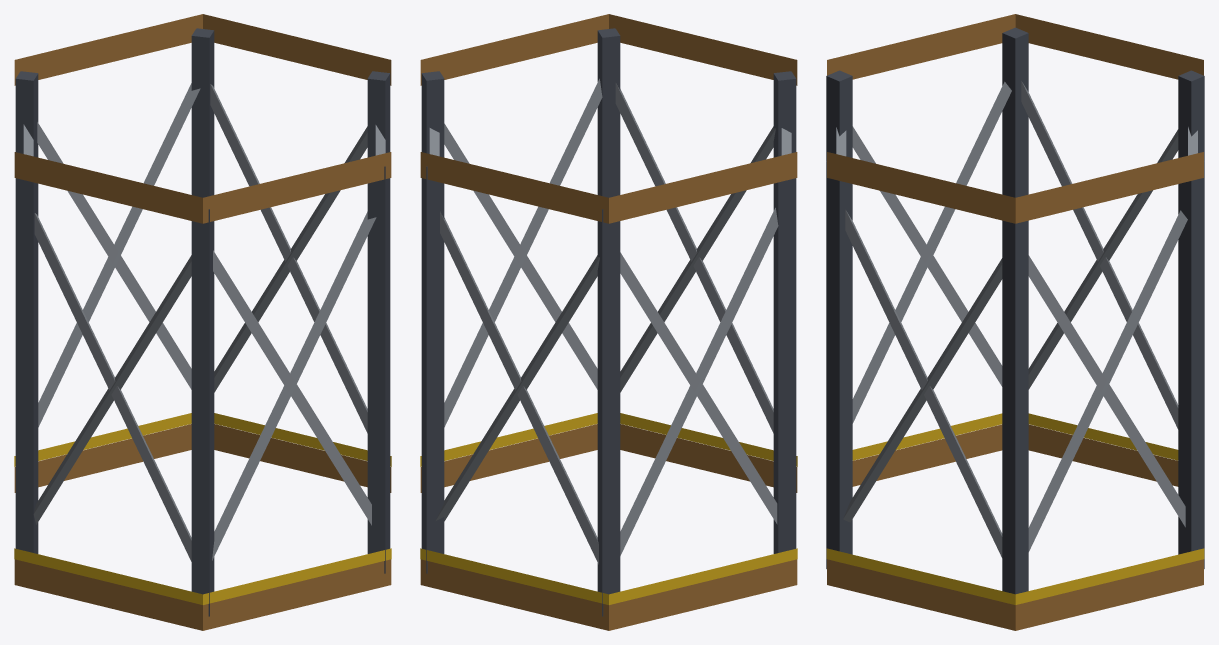
File: ship_hull_truss.obj
3 views of the same model, side by side, from view 1: azimuth 30°, elevation 25°; view 2: azimuth 150°, elevation 25°; view 3: azimuth 270°, elevation 25° (orthographic).
Parts seen in each view (by area): view 1: collars, longerons, bracing, chevron; view 2: collars, longerons, bracing, chevron; view 3: longerons, collars, bracing, chevron.
Part boxes in pixels (x1,y1,x2,y2): collars: [14, 14, 391, 630]; longerons: [15, 28, 390, 616]; bracing: [23, 83, 385, 561]; chevron: [14, 413, 391, 604]; collars: [420, 14, 797, 630]; longerons: [421, 28, 796, 616]; bracing: [429, 78, 791, 564]; chevron: [420, 413, 797, 604]; longerons: [826, 27, 1204, 594]; collars: [827, 14, 1203, 630]; bracing: [836, 81, 1197, 557]; chevron: [826, 413, 1204, 604].
Bounding box in the file's own units: 1.82 × 2 × 1.58.
